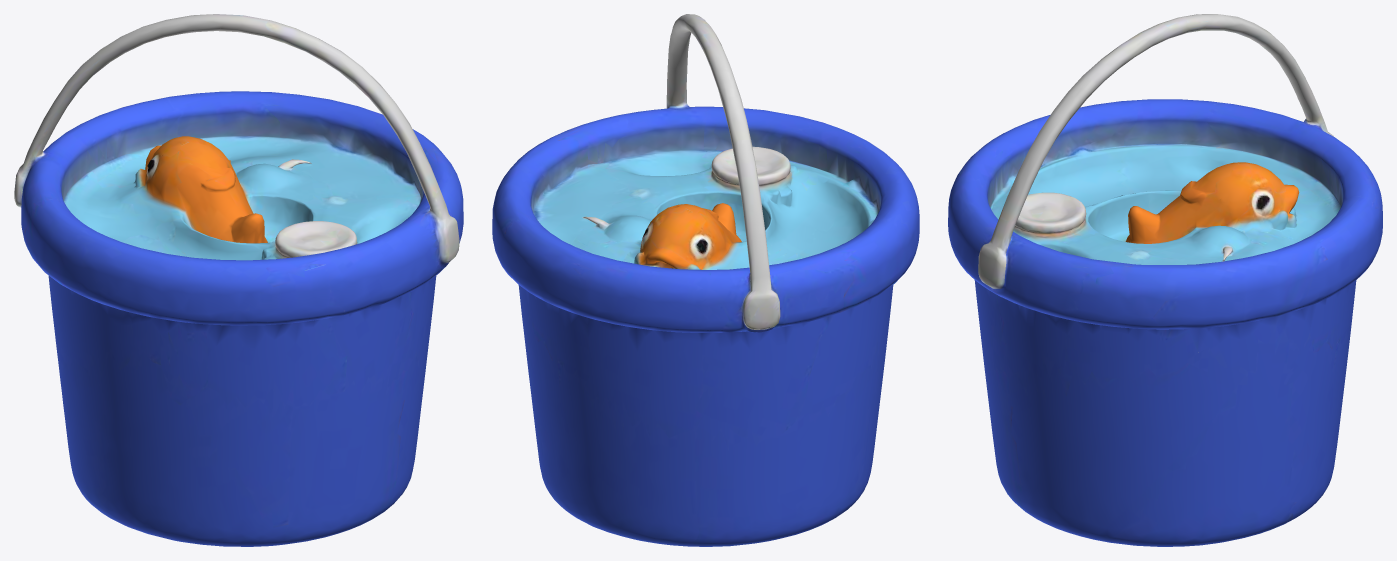
File: bucket.glb
3 renders of one model, left to right at view 1: azimuth 30°, elevation 25°; view 2: azimuth 150°, elevation 25°; view 3: azimuth 270°, elevation 25°, orthographic. The views are drawn at different scales.
Parts seen in each view (by area): view 1: tripo_node_54929893-e0ca-4baa-ad37-c3aa94fec70c; view 2: tripo_node_54929893-e0ca-4baa-ad37-c3aa94fec70c; view 3: tripo_node_54929893-e0ca-4baa-ad37-c3aa94fec70c.
Part boxes in pixels (left/top/right/bottom): tripo_node_54929893-e0ca-4baa-ad37-c3aa94fec70c: left=14, top=14, right=463, bottom=546; tripo_node_54929893-e0ca-4baa-ad37-c3aa94fec70c: left=492, top=14, right=919, bottom=546; tripo_node_54929893-e0ca-4baa-ad37-c3aa94fec70c: left=948, top=14, right=1382, bottom=546.
Bounding box in the file's own units: 0.8631 × 1 × 0.8625.
Materials: 1 (1 with a texture image).
